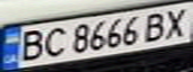6: (121, 12, 148, 47), (87, 18, 109, 52), (106, 16, 127, 50)
8: (69, 20, 93, 55)
B: (12, 27, 48, 63), (139, 9, 172, 43)
C: (36, 25, 69, 60)
X: (160, 5, 193, 39)
